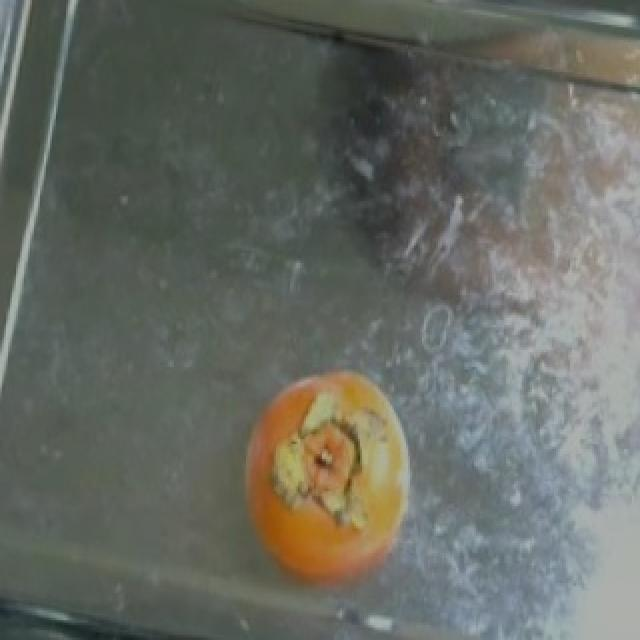Fruit: (228, 362, 430, 613)
